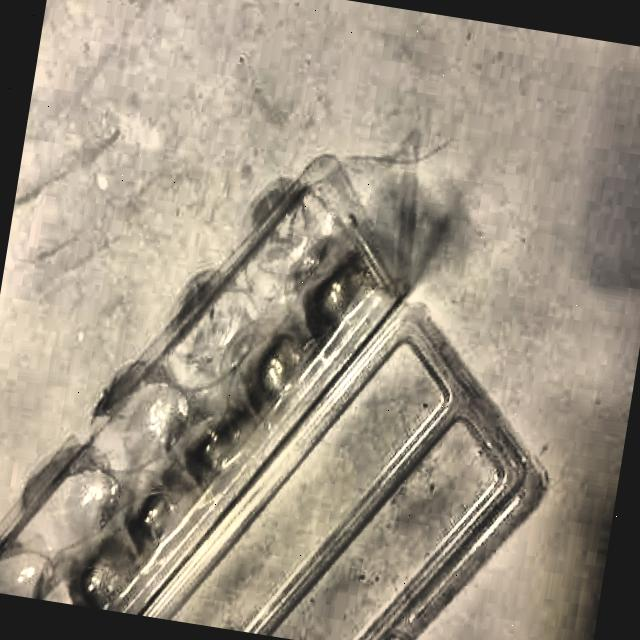plastic: (14, 127, 568, 640)
